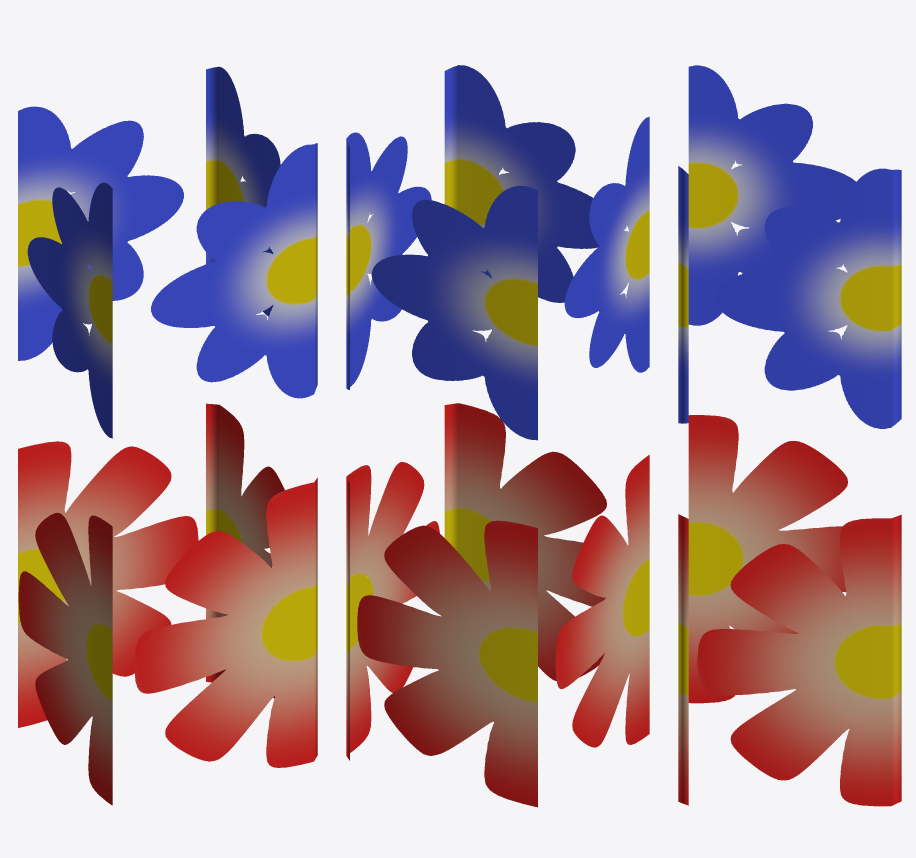
Rendered from SM_SS01_Pillar.fbx.
3 renders of one model, left to right at view 1: azimuth 30°, elevation 25°; view 2: azimuth 150°, elevation 25°; view 3: azimuth 270°, elevation 25°, orthographic. The views are drawn at different scales.
Parts seen in each view (by area): view 1: SM_SS01_Pillar; view 2: SM_SS01_Pillar; view 3: SM_SS01_Pillar.
Boxes of the visible parts, box(x1,y1,x2,y2) form: SM_SS01_Pillar: box(18, 66, 317, 805); SM_SS01_Pillar: box(346, 65, 649, 807); SM_SS01_Pillar: box(678, 65, 901, 806).
Bounding box in the file's own units: 201 × 662 × 184.
